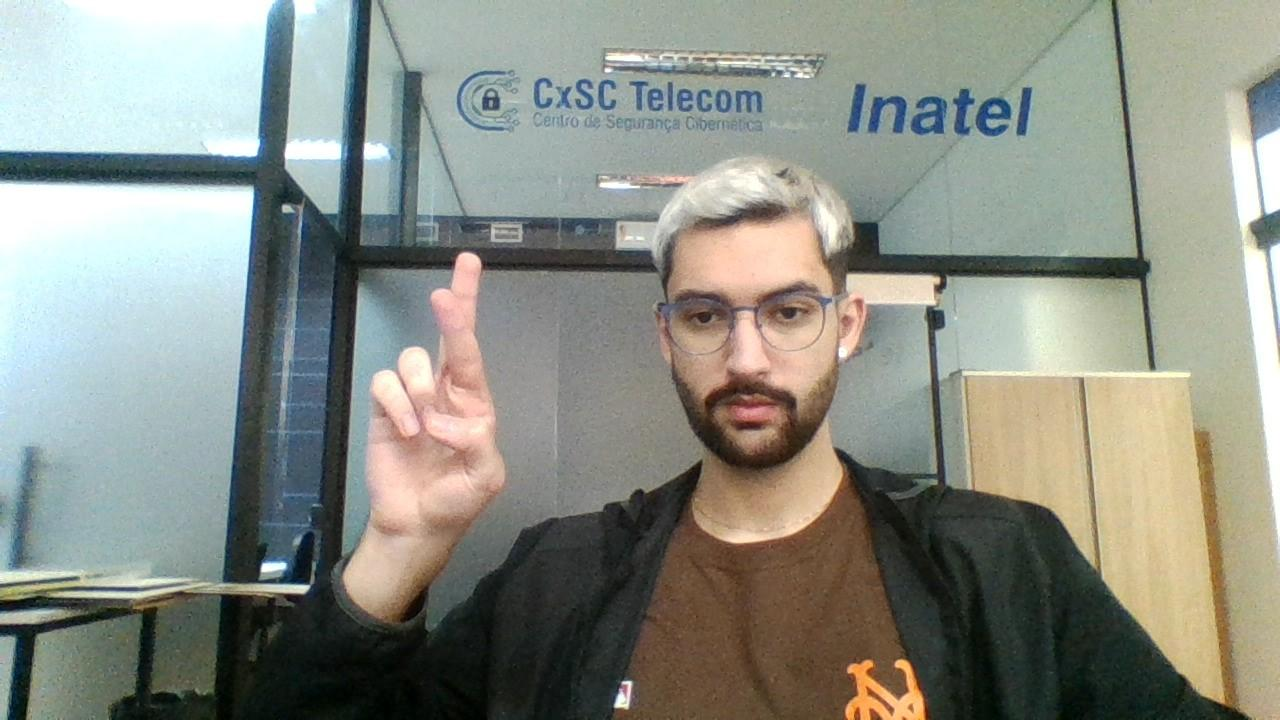R: (350, 248, 516, 548)
